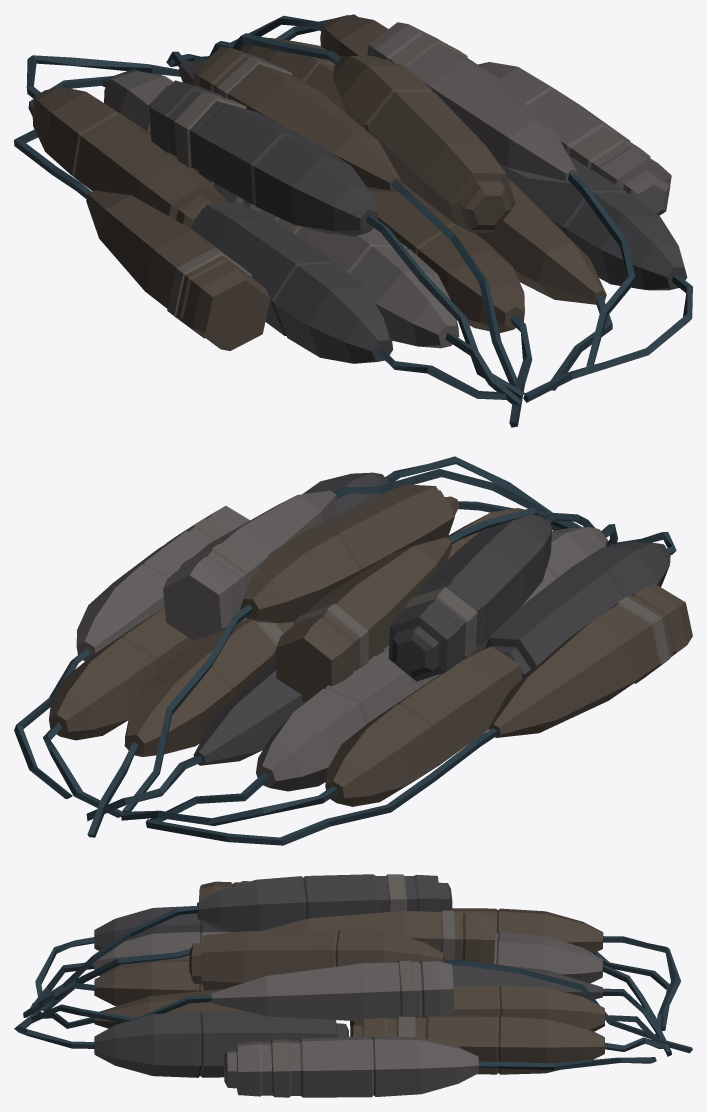
File: SM_Prop_IED_Pile_01.glb
3 views of the same model, one above another, from view 1: azimuth 30°, elevation 25°; view 2: azimuth 150°, elevation 25°; view 3: azimuth 270°, elevation 25° (orthographic). The views are drawn at different scales.
Parts seen in each view (by area): view 1: SM_Prop_IED_Pile_01; view 2: SM_Prop_IED_Pile_01; view 3: SM_Prop_IED_Pile_01.
Part boxes in pixels (x1=…): SM_Prop_IED_Pile_01: x1=14, y1=14, x2=692, y2=427; SM_Prop_IED_Pile_01: x1=14, y1=456, x2=692, y2=845; SM_Prop_IED_Pile_01: x1=14, y1=874, x2=692, y2=1097.
Size of the model in its own units: 1.07 by 0.3458 by 1.69.
1 material, 1 textured.
